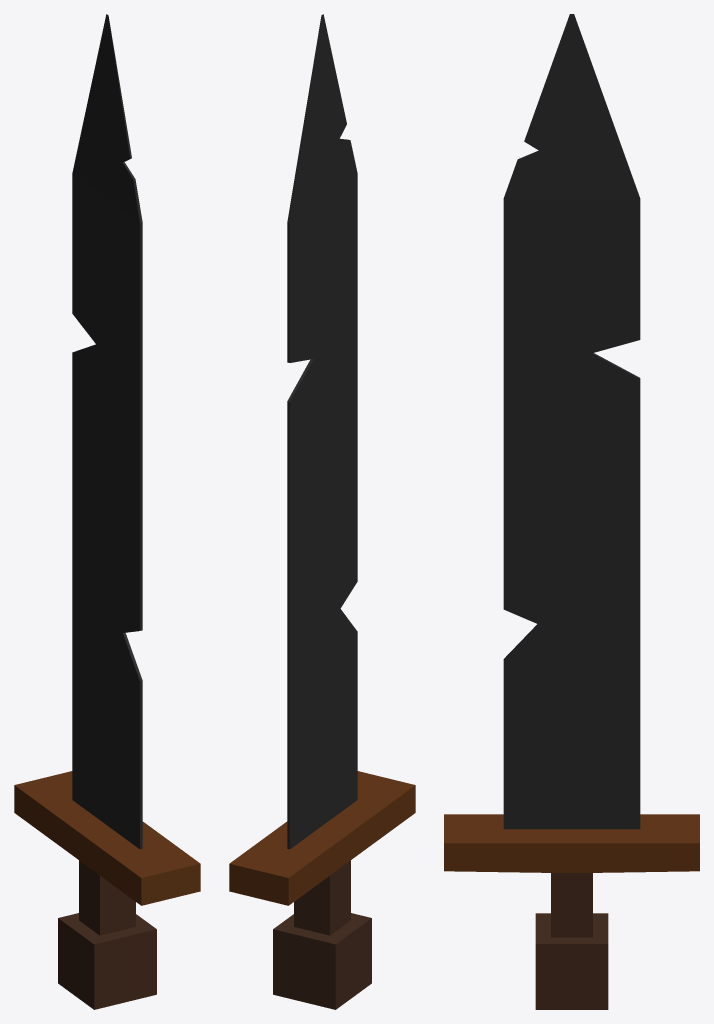
File: Sword.fbx
3 views of the same model, side by side, from view 1: azimuth 30°, elevation 25°; view 2: azimuth 150°, elevation 25°; view 3: azimuth 270°, elevation 25° (orthographic).
Parts seen in each view (by area): view 1: Cube; view 2: Cube; view 3: Cube.
Boxes of the visible parts, x1,y1,x2,y2 form: Cube: (14, 14, 200, 1009); Cube: (229, 14, 415, 1009); Cube: (444, 14, 699, 1009).
Size of the model in its own units: 200 by 2975 by 703.
